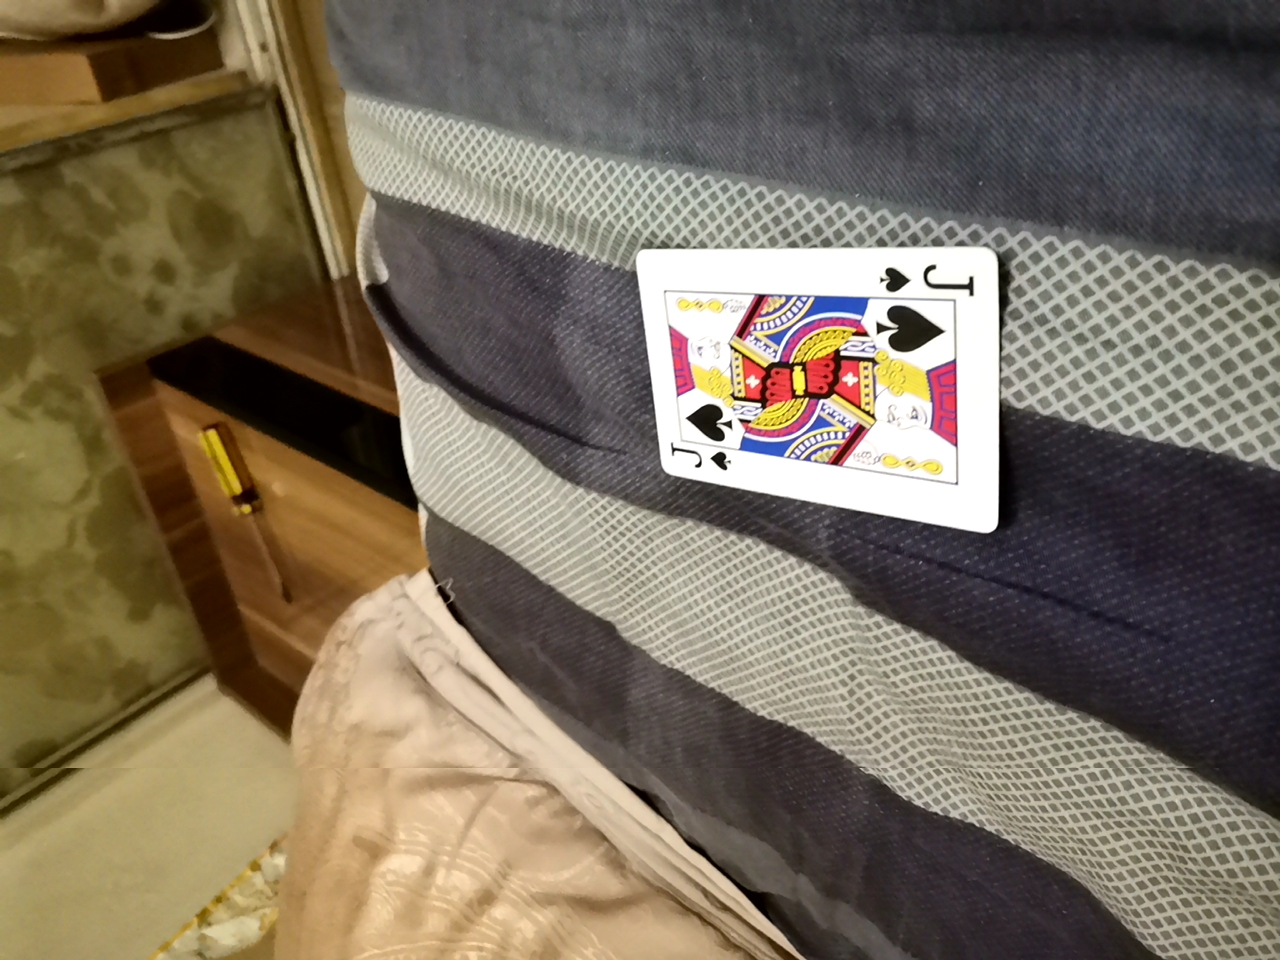ht j: (634, 241, 997, 531)
